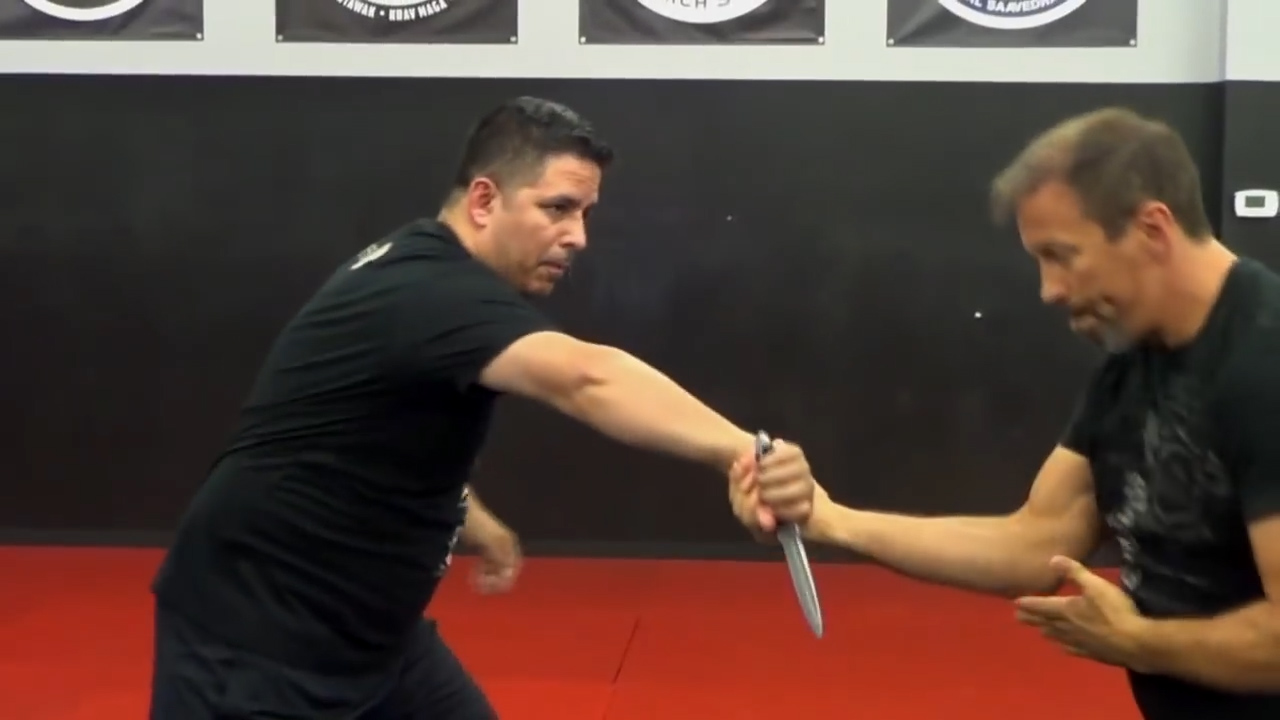knife: (738, 427, 835, 650)
